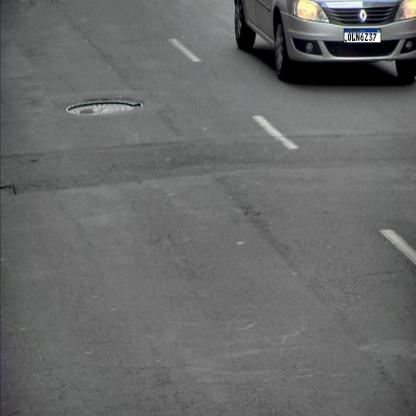PlacaM: (344, 28, 381, 43)
